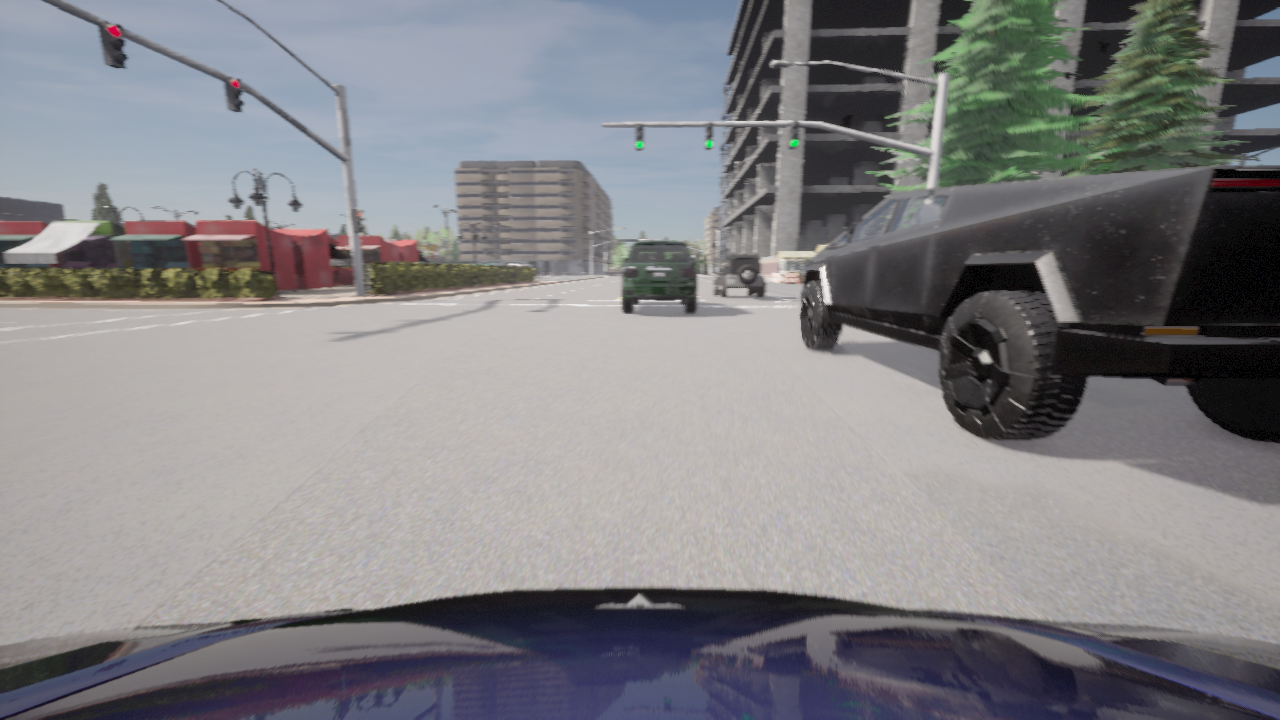cyclist: (0, 588, 1279, 719), (799, 166, 1279, 443), (621, 241, 696, 312), (713, 254, 764, 298), (517, 265, 536, 273)
